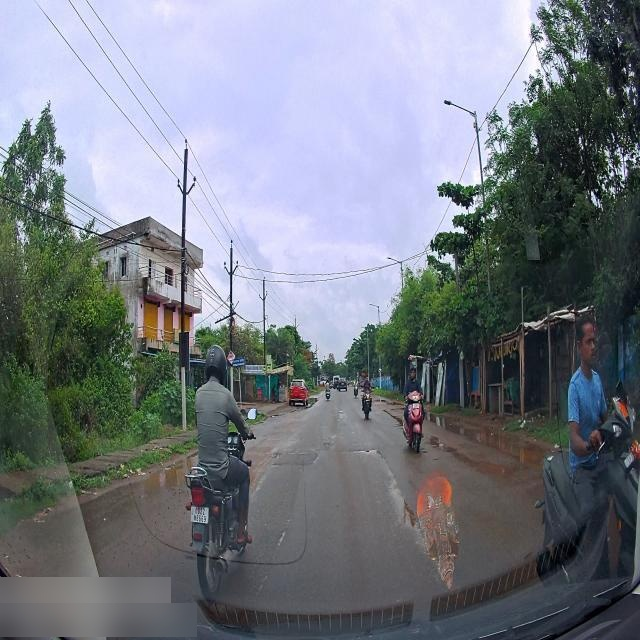pothole: (426, 410, 542, 471), (384, 468, 419, 528), (350, 442, 380, 460), (321, 438, 331, 453)
